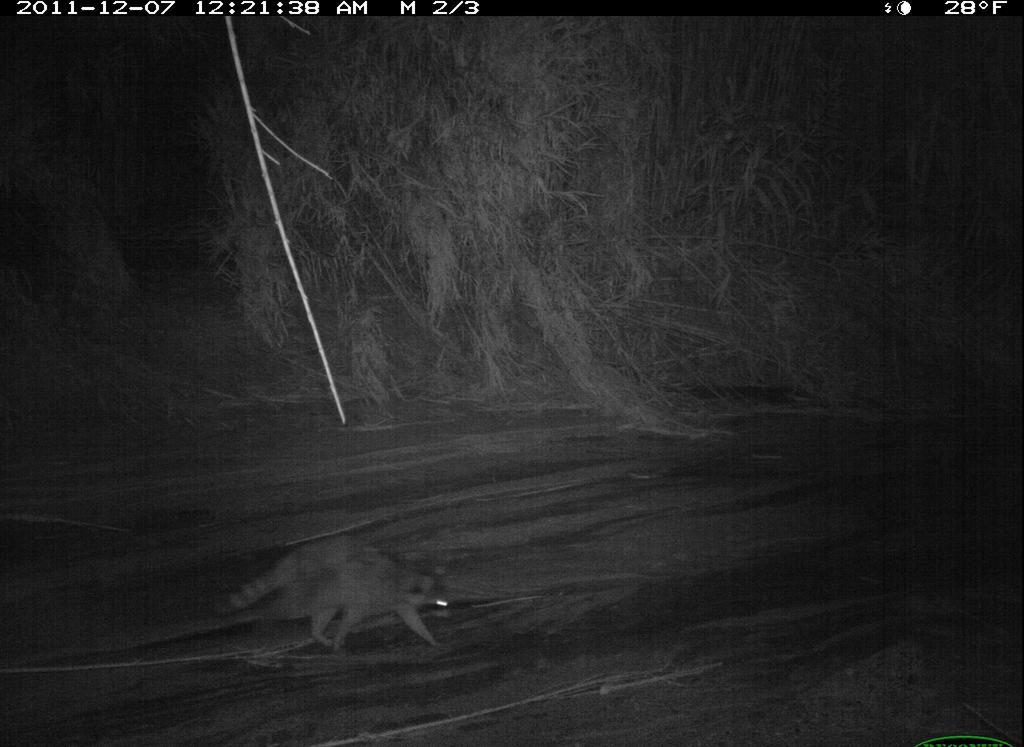raccoon: (204, 530, 463, 667)
